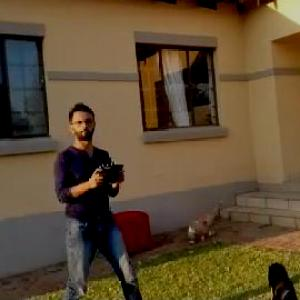follow: (47, 95, 146, 299)
null: (180, 196, 227, 246), (266, 259, 300, 299)
